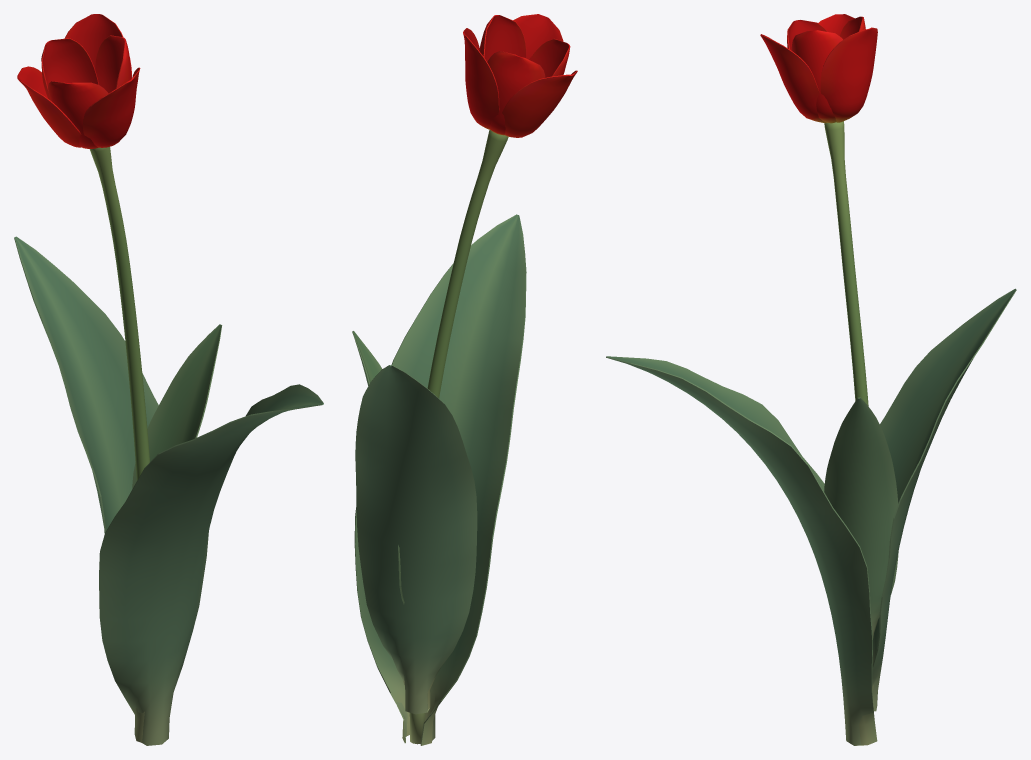
File: open-red.glb
The picture shows the model from 3 angles, left to right: view 1: azimuth 30°, elevation 25°; view 2: azimuth 150°, elevation 25°; view 3: azimuth 270°, elevation 25°; orthographic projection. The views are drawn at different scales.
Visible parts, largest first — view 1: tulip-open-red; view 2: tulip-open-red; view 3: tulip-open-red.
Boxes of the visible parts, x1,y1,x2,y2 form: tulip-open-red: (14, 14, 323, 745); tulip-open-red: (352, 14, 577, 745); tulip-open-red: (606, 14, 1016, 745).
Size of the model in its own units: 0.1205 by 0.3952 by 0.2137.
